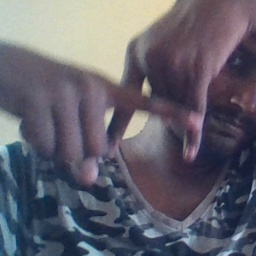H: (93, 40, 219, 165)
